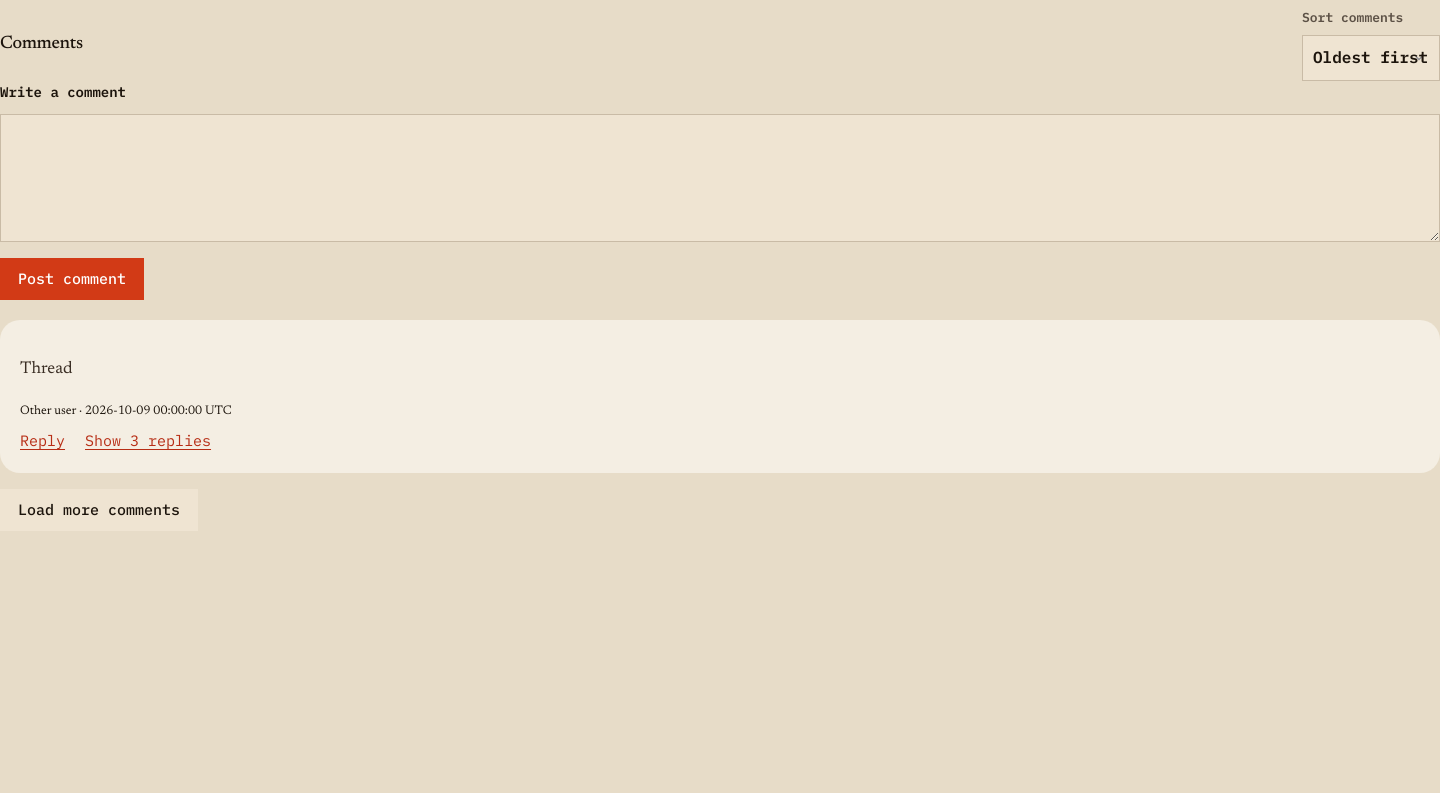
it: refreshes all opened comment and reply pages while retaining expansion and a reply draft
Click the button "Show 3 replies" at (148, 440), box [85,428,211,452]
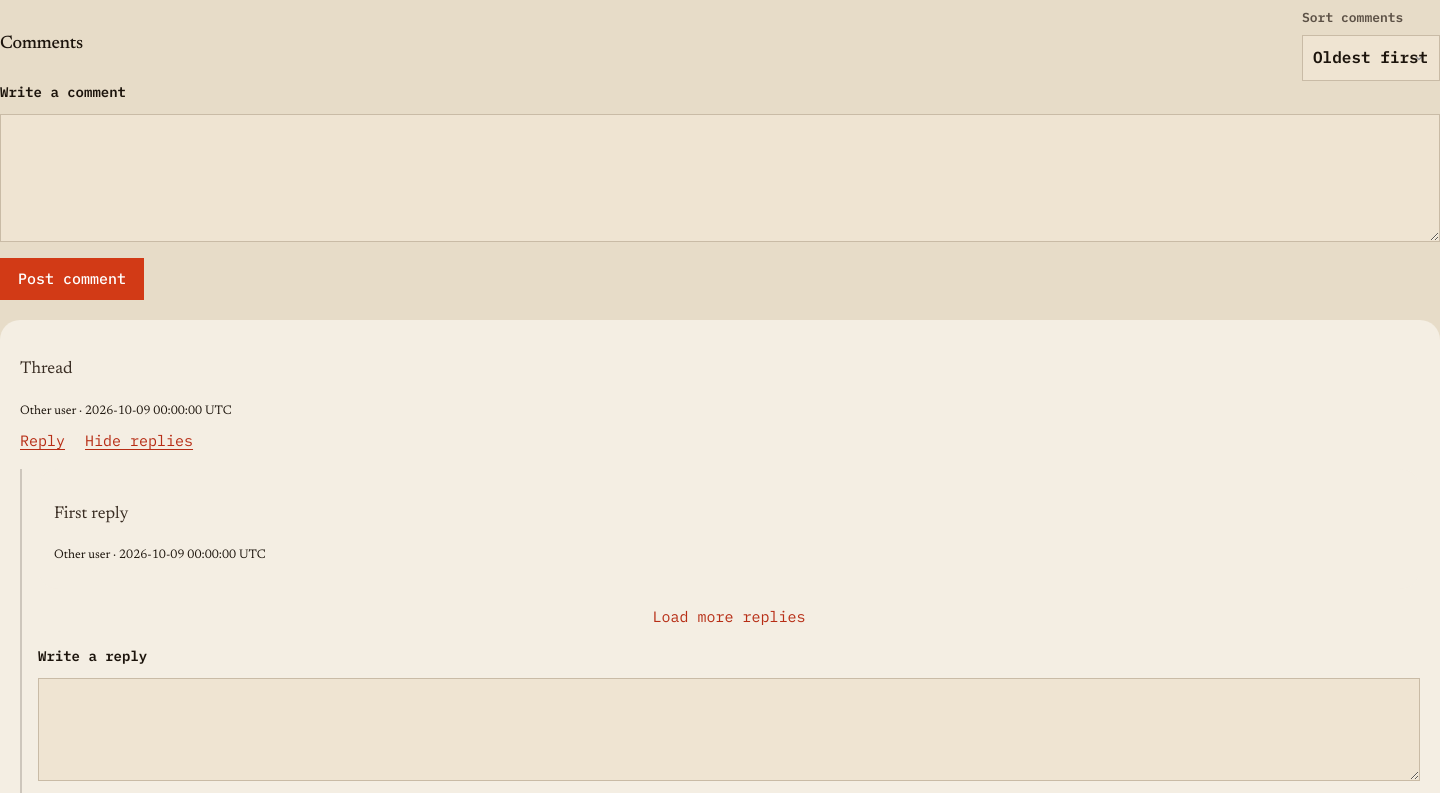
Click the button "Load more replies" at (729, 617), box [38,601,1420,633]
(page scrolled)
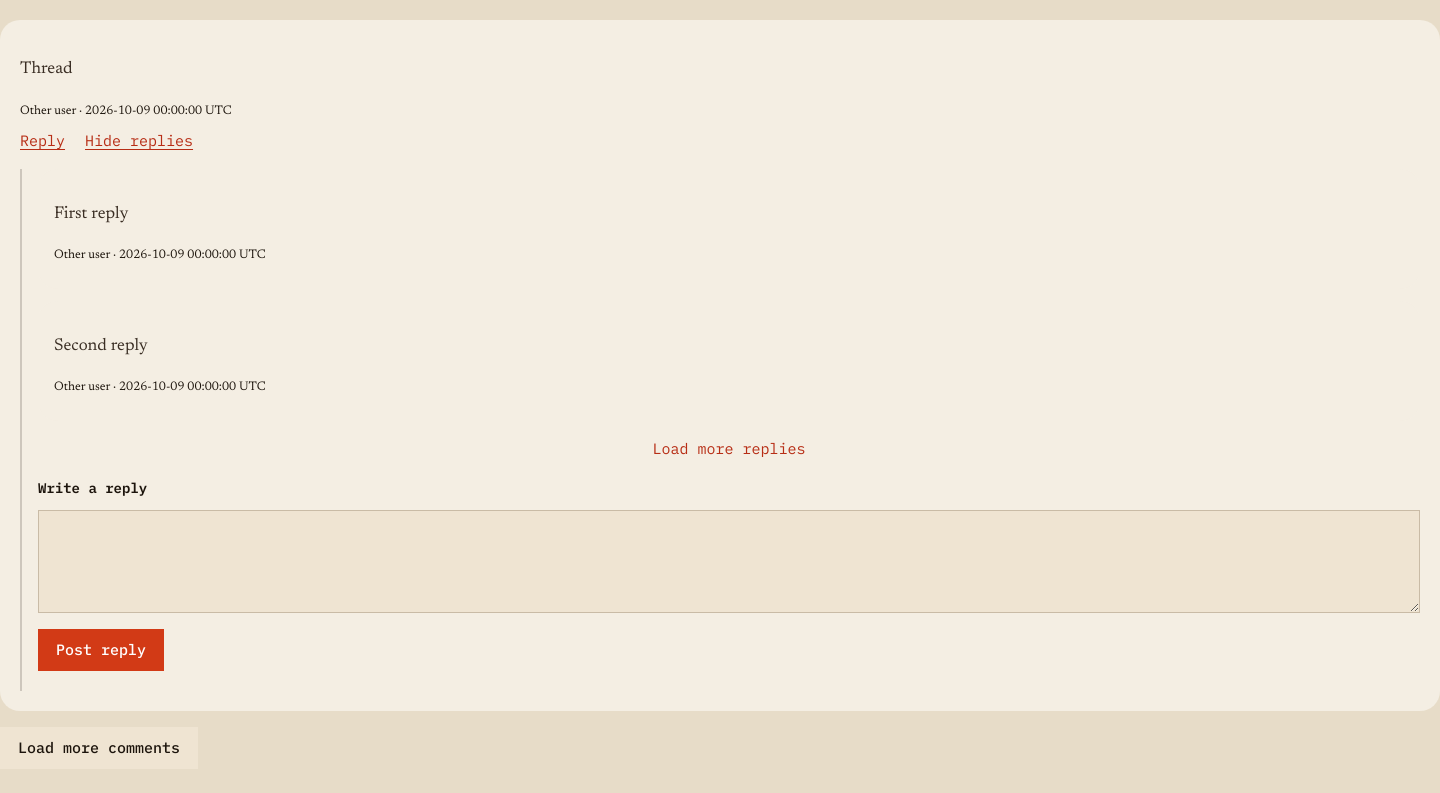
Expected: the text "Second reply" is shown, [54,338,148,355]
Click the button "Load more comments" at (99, 748), box [0,727,198,769]
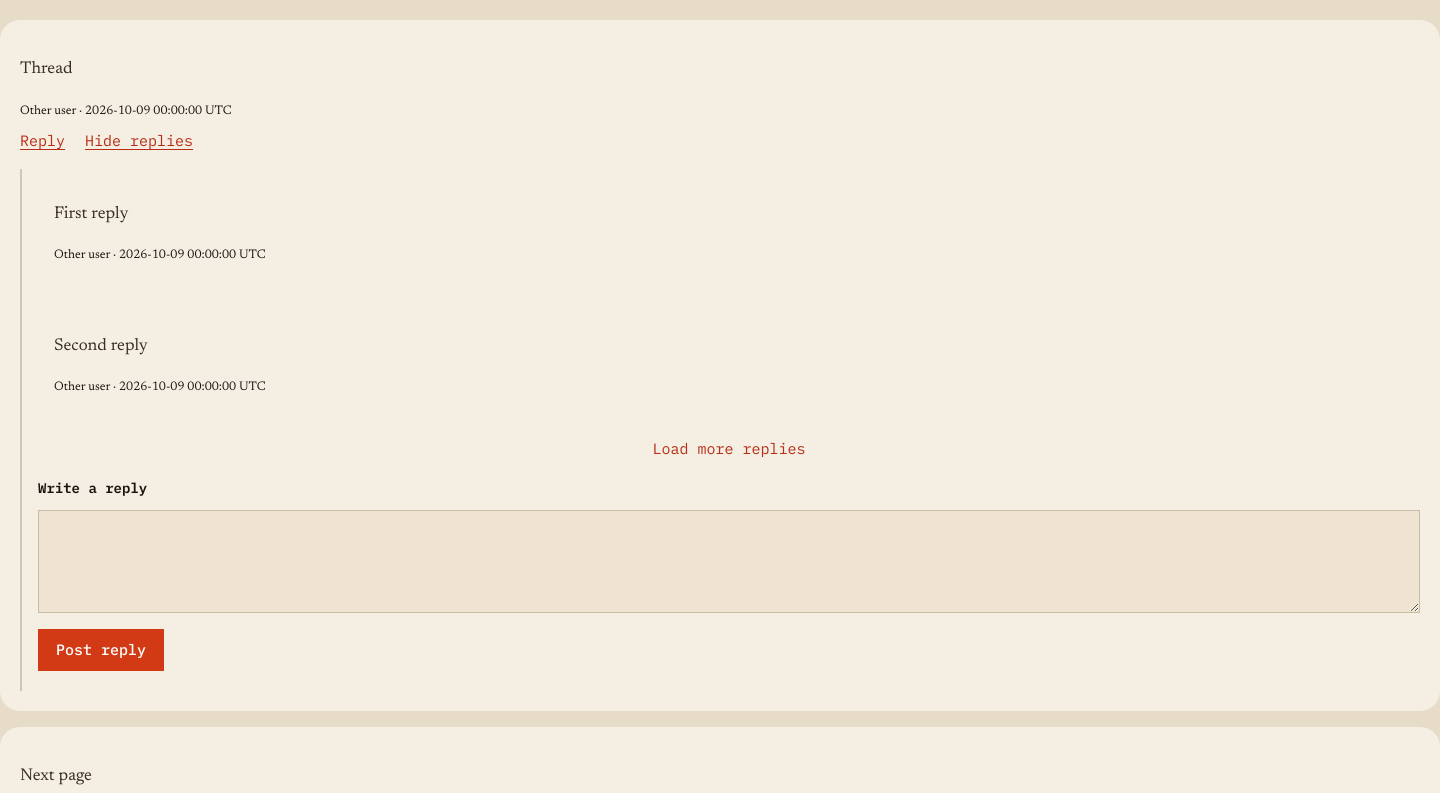
Expected: the text "Next page" is shown, [20,768,92,785]
Type "Unfinished reply" into the text box labelled "Write a reply" at (729, 562), box [38,510,1420,613]
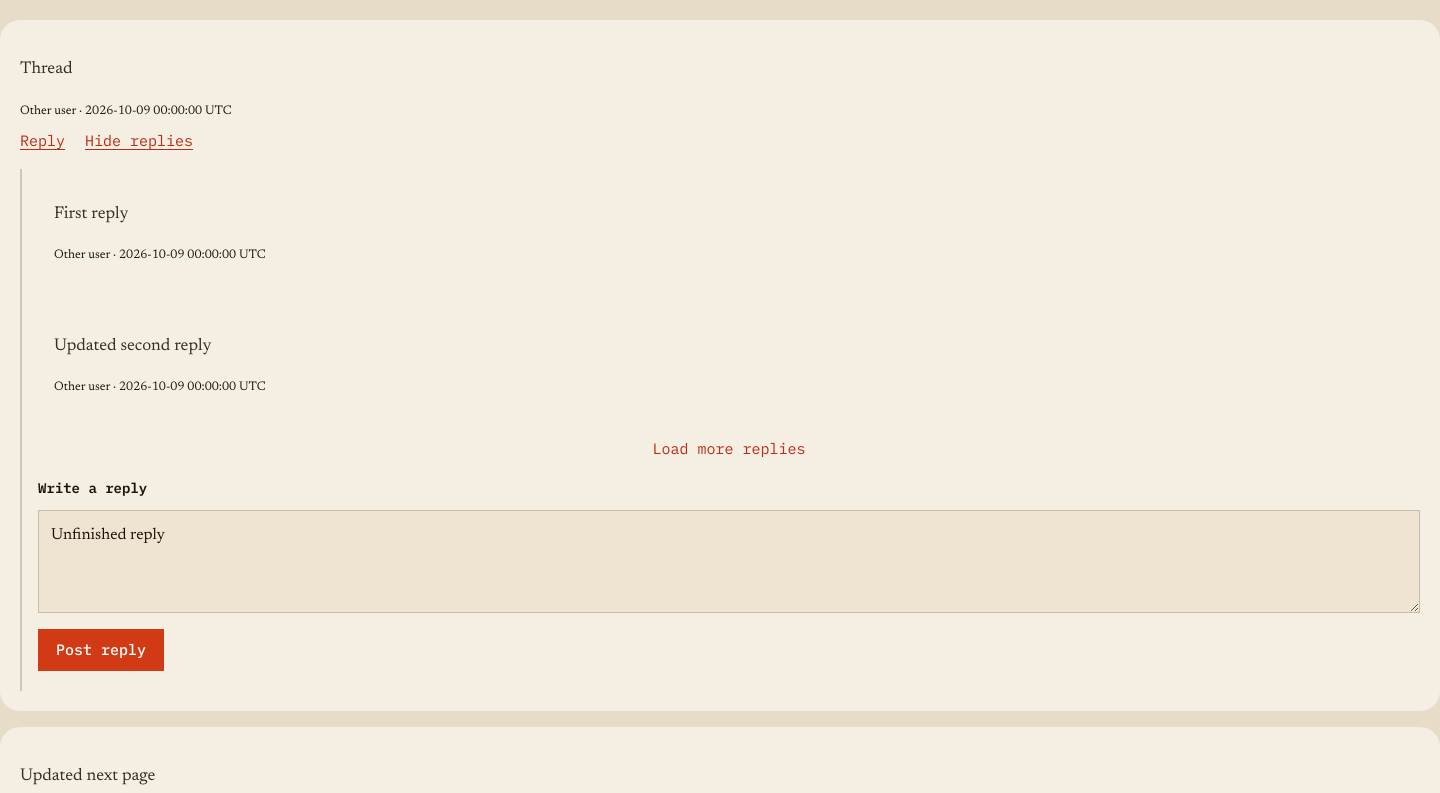
Expected: the button "Hide replies" is expanded, [85,128,193,152]
Expected: the text "Updated second reply" is shown, [54,338,211,355]
Expected: the text "Updated next page" is shown, [20,768,155,785]
